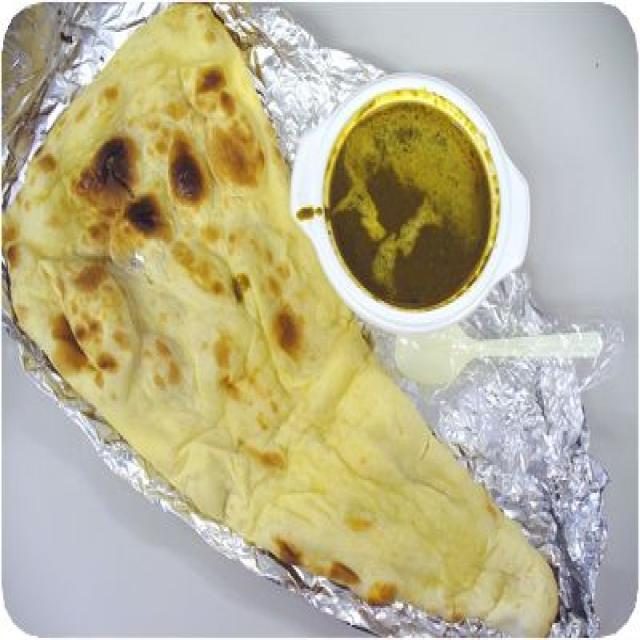牛肉菜式: (288, 64, 541, 333)
